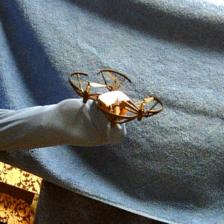drone: (68, 69, 164, 126)
